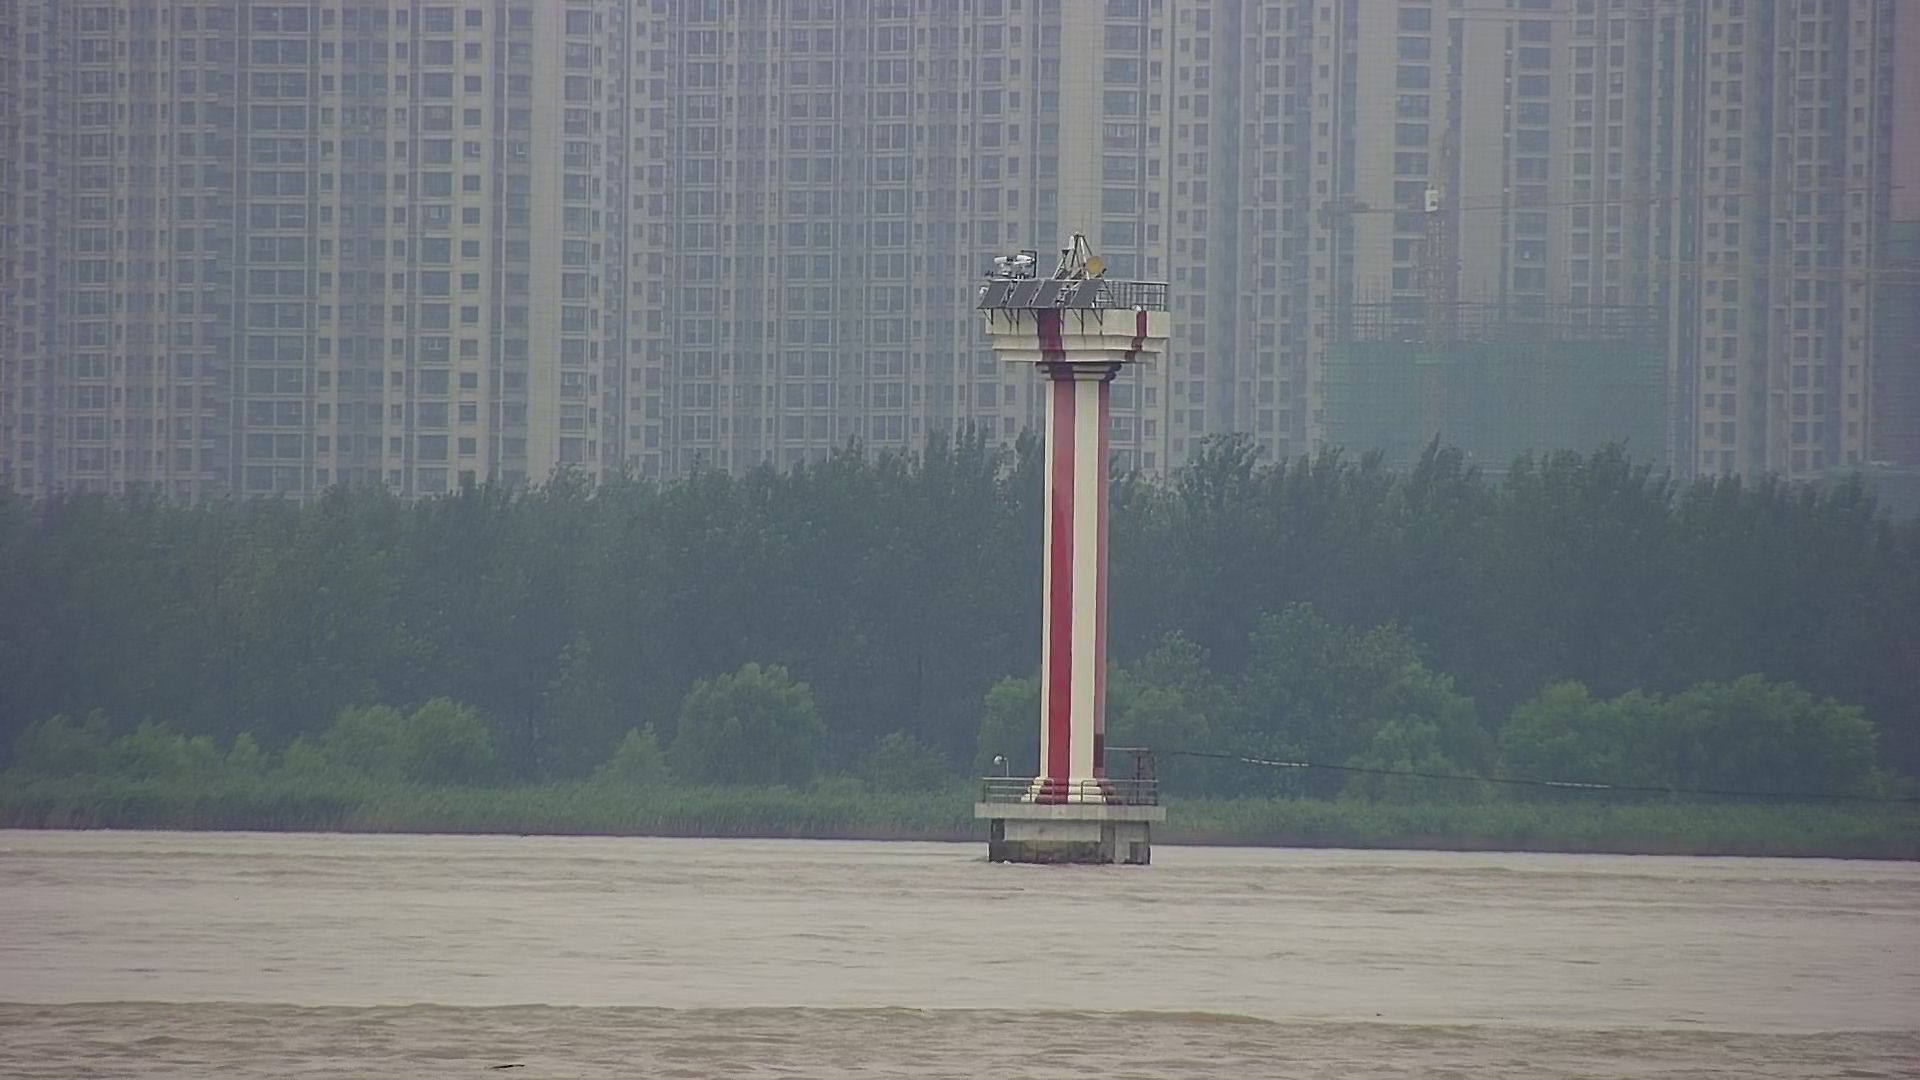platform: (967, 218, 1168, 864)
